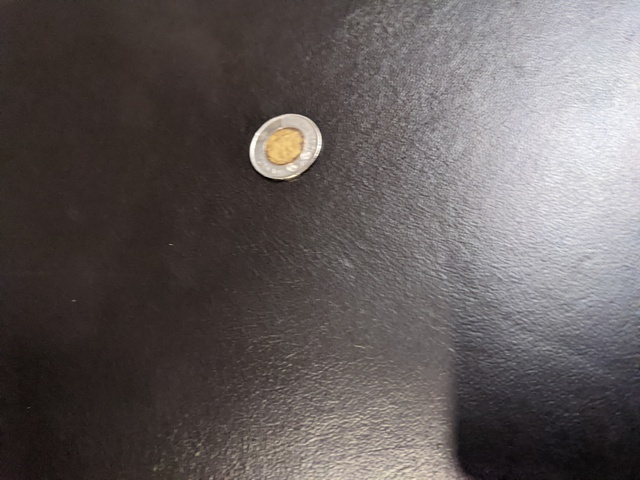twonie: (242, 114, 330, 196)
